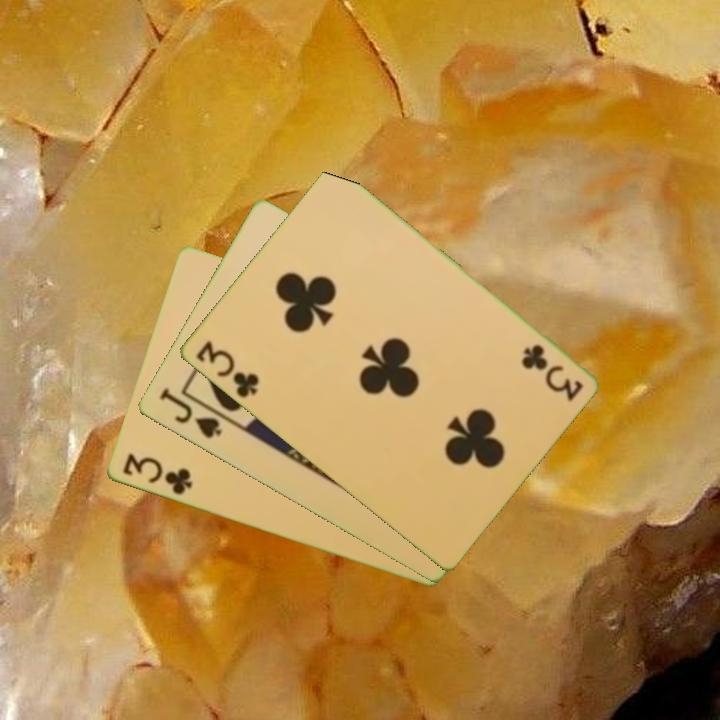3c: (192, 337, 262, 402), (517, 340, 586, 403), (119, 450, 195, 498)
Js: (155, 385, 225, 442)
